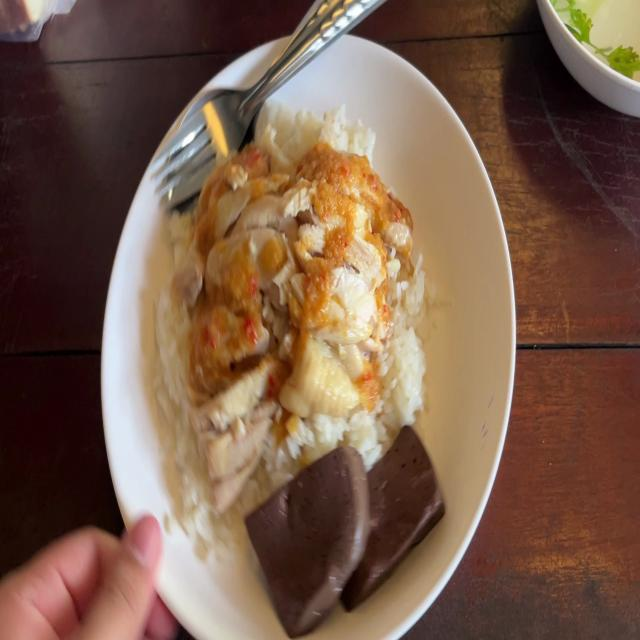boiled_chicken: (210, 152, 387, 419)
boiled_chicken_blood_jelly: (244, 447, 365, 615), (347, 427, 443, 599)
chicken_rice: (161, 100, 448, 606)
